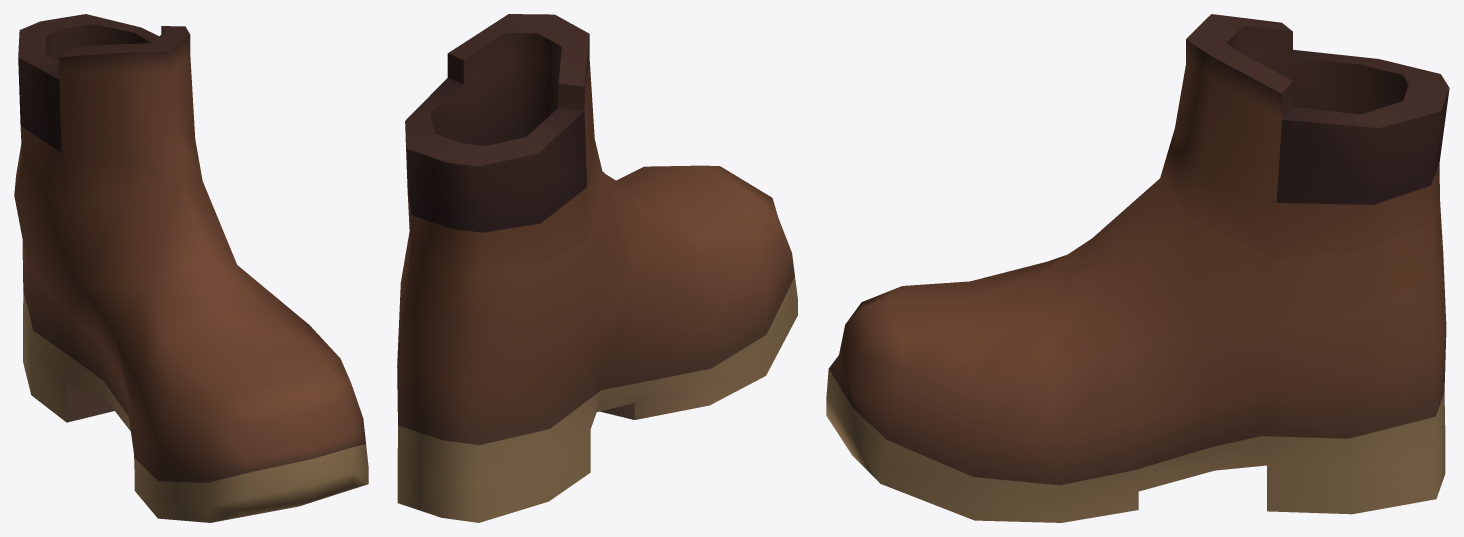
File: human-clothing-ankle-boot_v2.glb
3 renders of one model, left to right at view 1: azimuth 30°, elevation 25°; view 2: azimuth 150°, elevation 25°; view 3: azimuth 270°, elevation 25°, orthographic. The views are drawn at different scales.
Visible parts, largest first — view 1: Ankle Boot_v2; view 2: Ankle Boot_v2; view 3: Ankle Boot_v2.
Boxes of the visible parts, box(x1,y1,x2,y2) form: Ankle Boot_v2: box(14, 14, 368, 522); Ankle Boot_v2: box(397, 14, 797, 522); Ankle Boot_v2: box(826, 14, 1449, 522).
Bounding box in the file's own units: 0.1033 × 0.1949 × 0.25.
